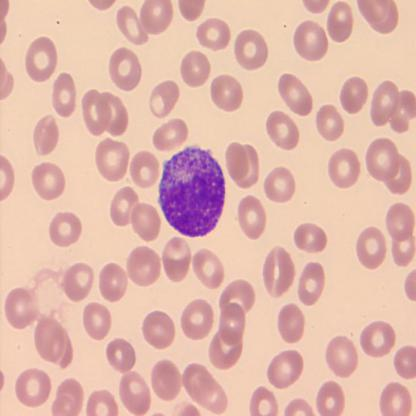Myelocyte: (160, 144, 228, 236)
